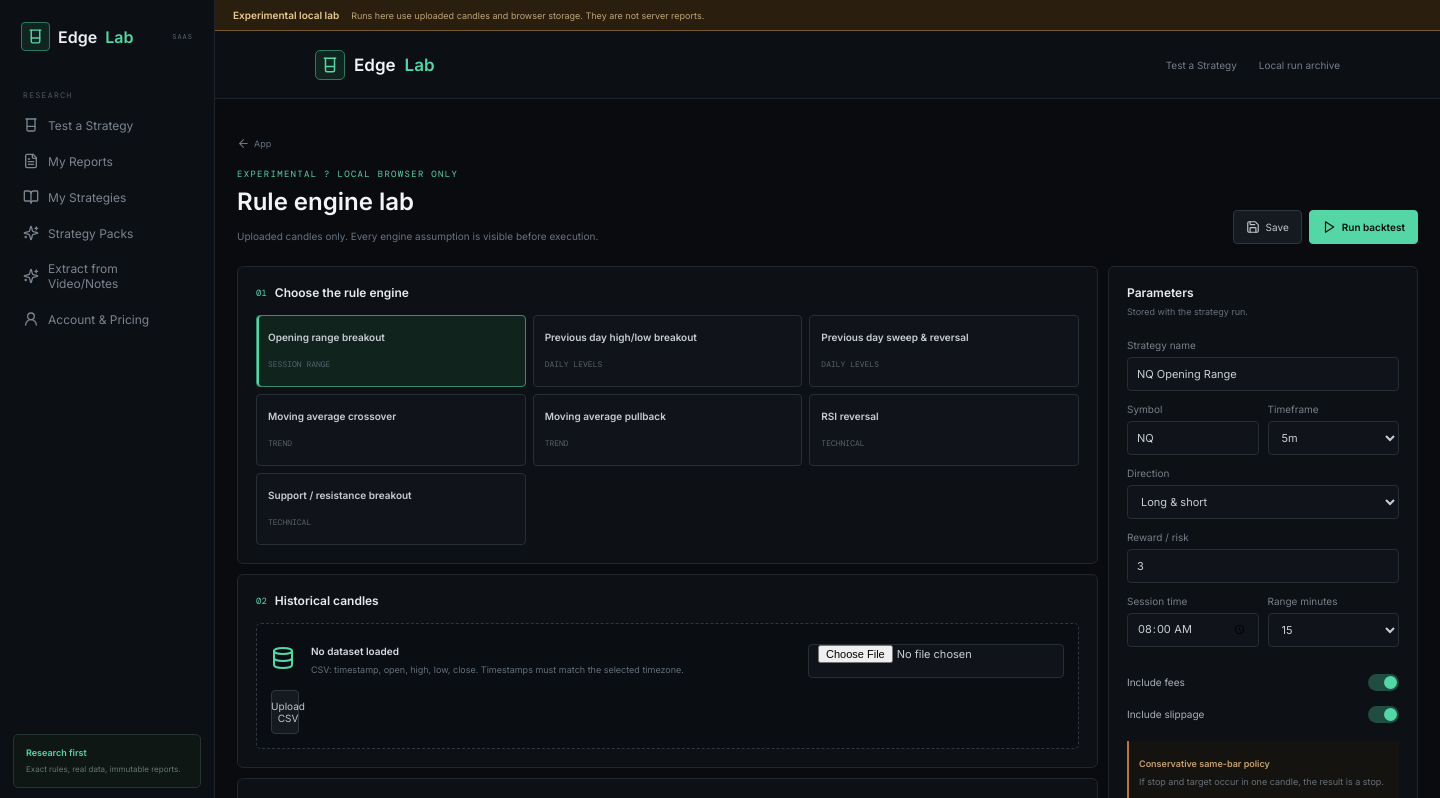
Test: multi-strategy workspace › routes to the engine lab and keeps backtesting gated on candle data
expect the heading "Rule engine lab" is shown: met, box left=237, top=187, right=414, bottom=216
Click the button "Run backtest" at (1363, 227), box left=1309, top=210, right=1418, bottom=244
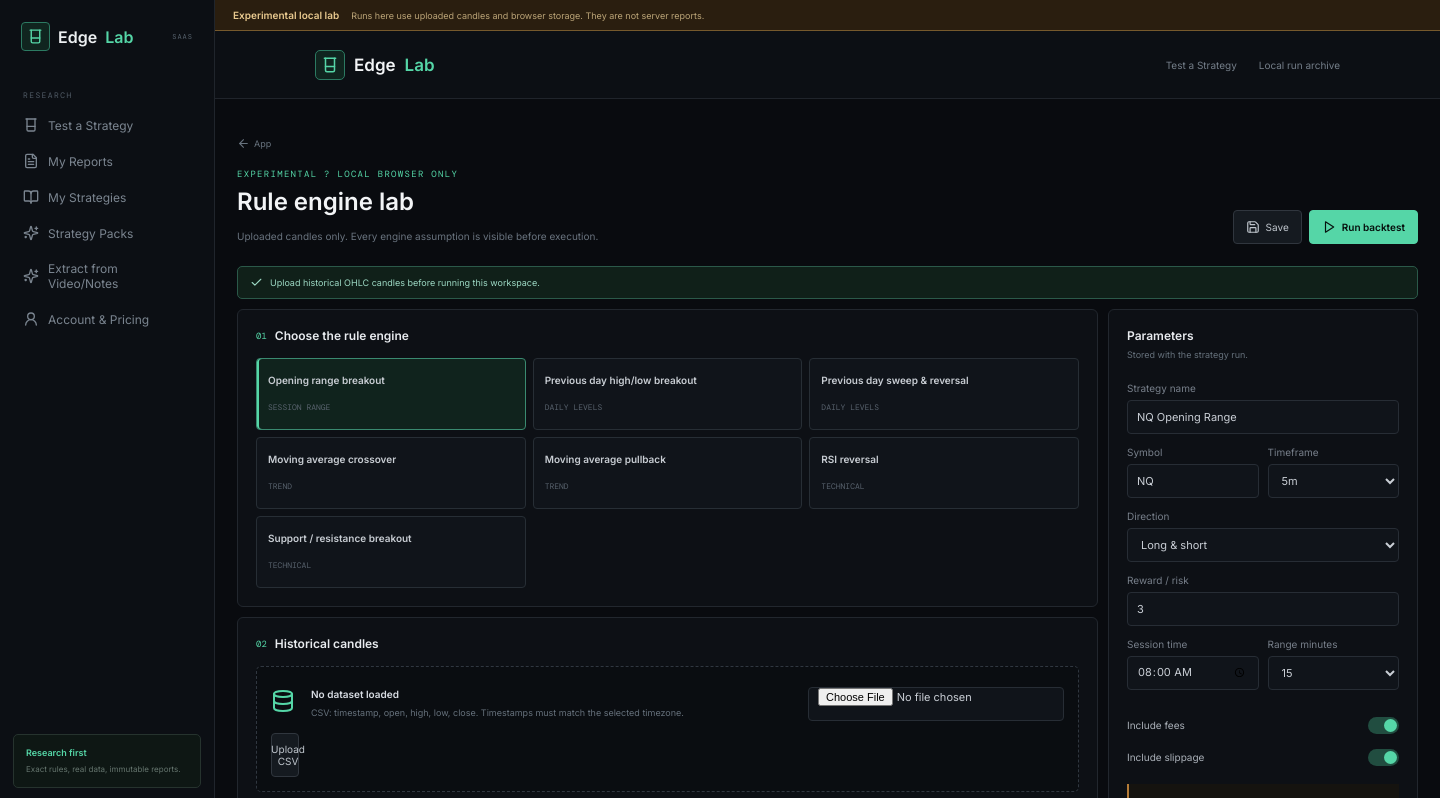
expect the text "Upload historical OHLC candles before running this workspace." is shown: met, box left=237, top=266, right=1418, bottom=299
